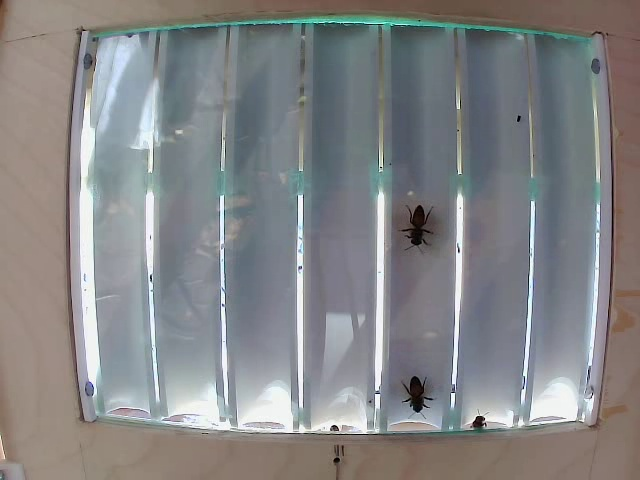bee: (399, 200, 450, 274), (397, 357, 441, 408)
